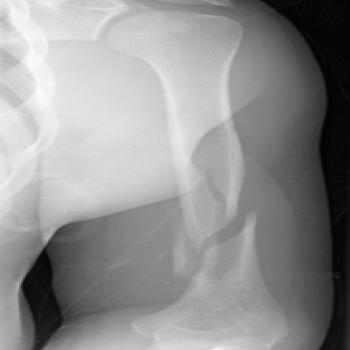Fracture: (175, 215, 274, 260)
